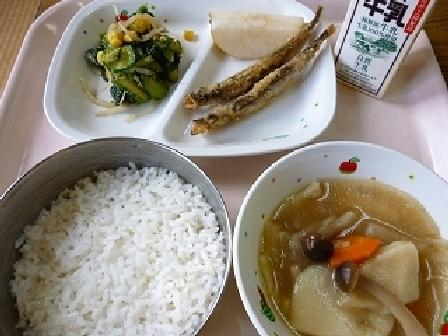Apple: (201, 6, 304, 62)
Fish: (186, 35, 327, 144)
Milk: (332, 0, 438, 90)
Rice: (10, 144, 228, 335)
Salad: (81, 15, 177, 112)
Soups: (239, 151, 447, 334)
